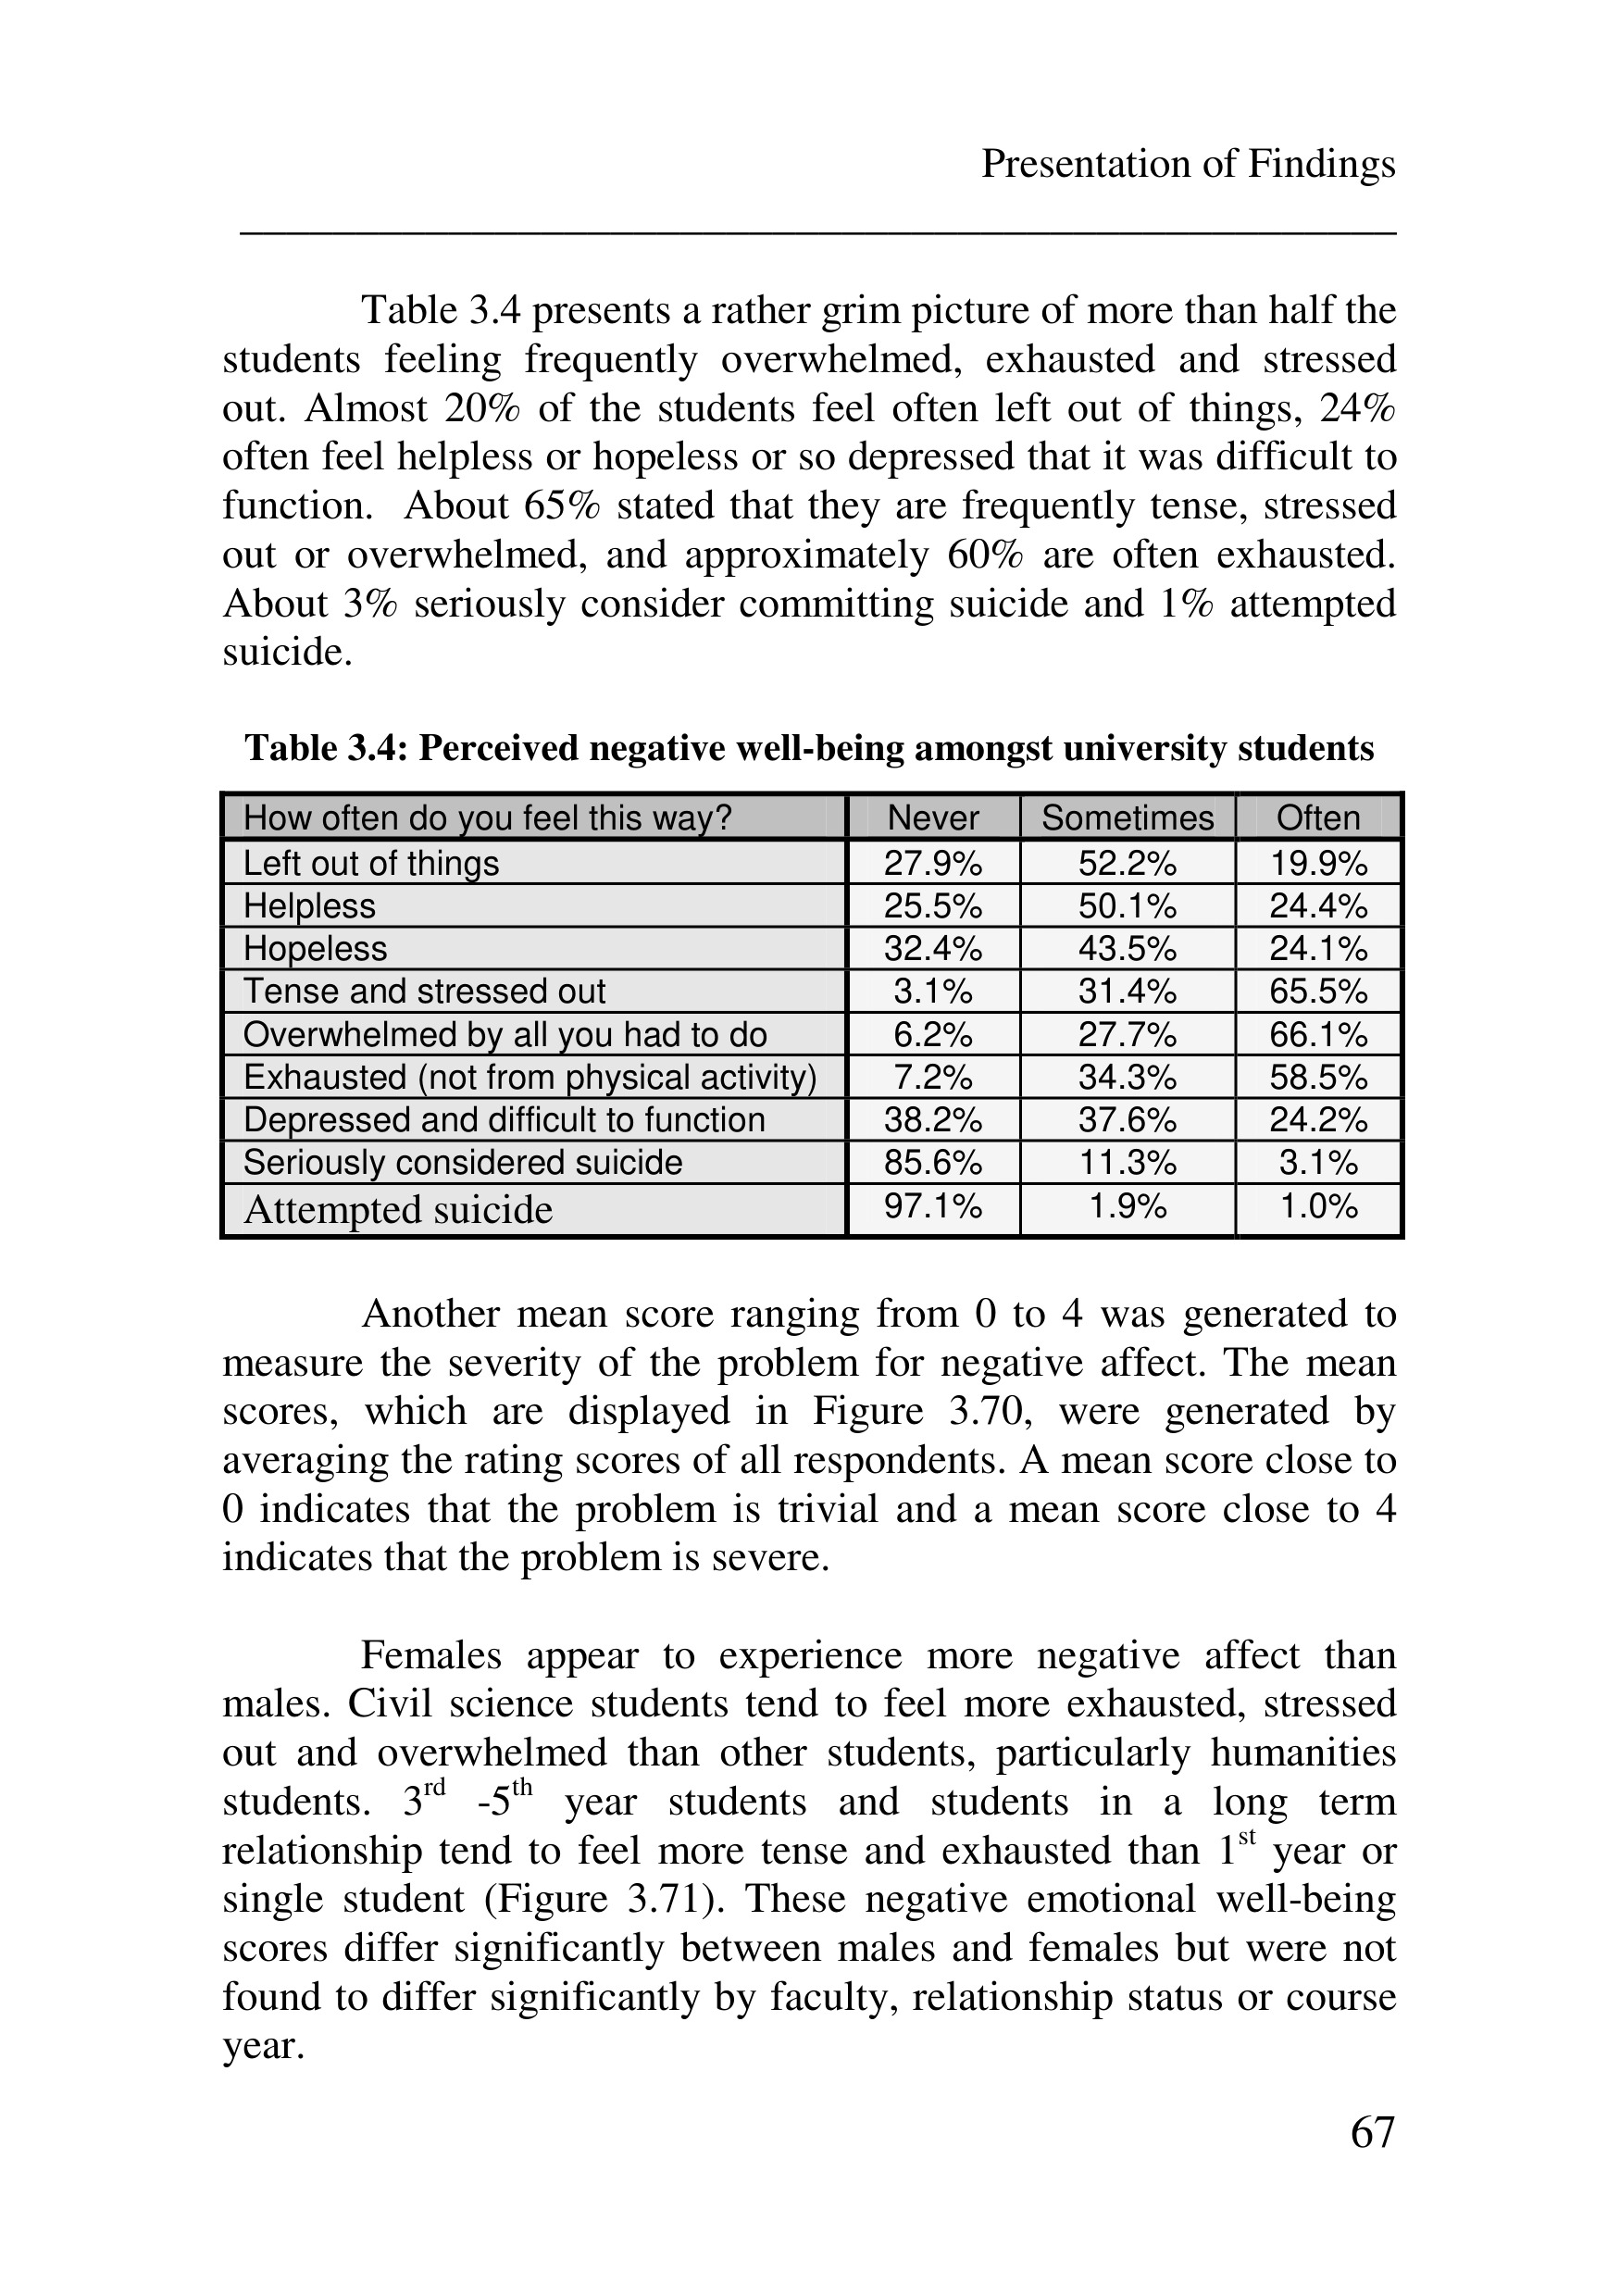table: (242, 792, 1368, 1236)
